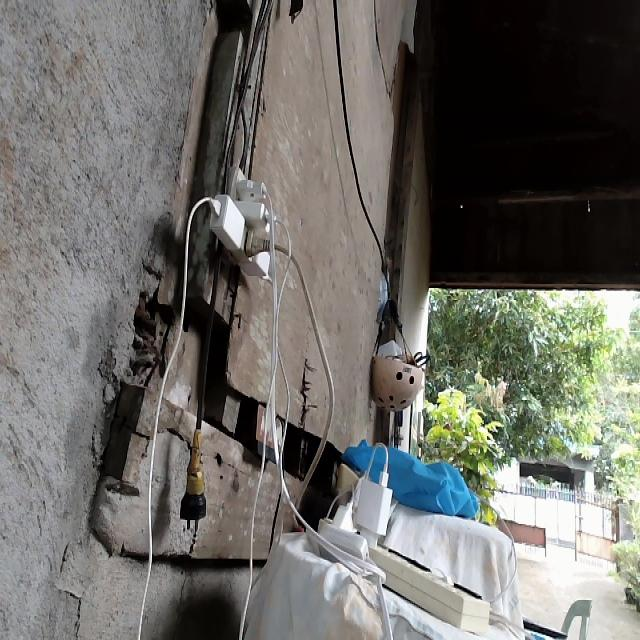-: (206, 161, 281, 280)
